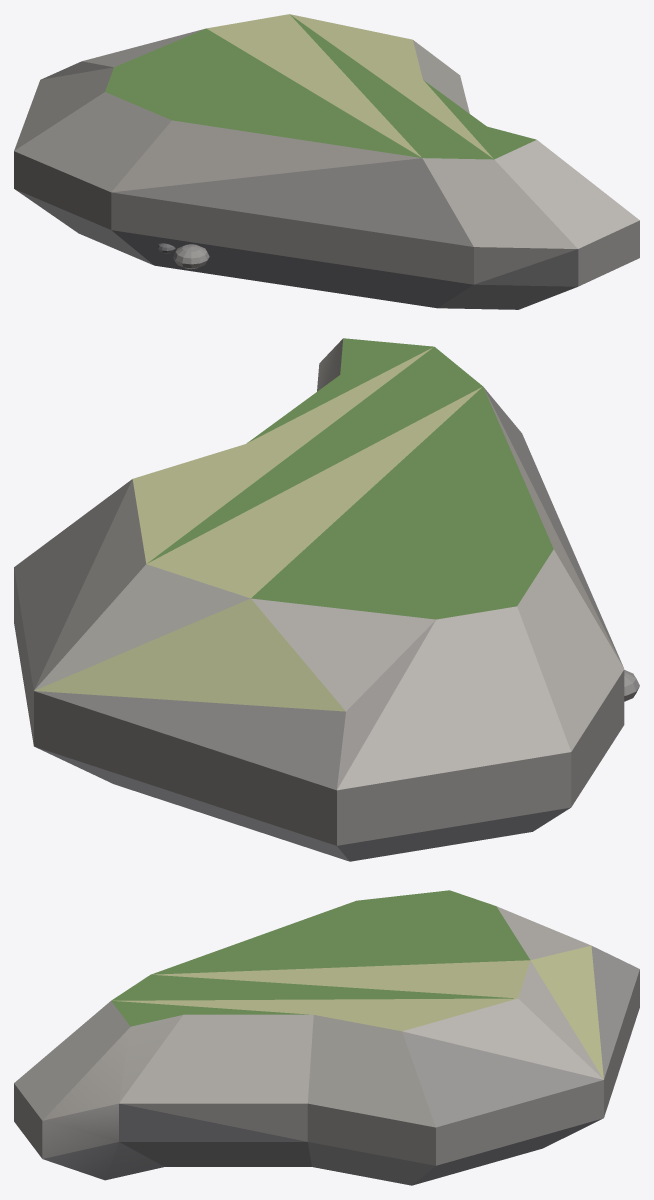
File: rock_largeA.glb
3 views of the same model, one above another, from view 1: azimuth 30°, elevation 25°; view 2: azimuth 150°, elevation 25°; view 3: azimuth 270°, elevation 25° (orthographic). The views are drawn at different scales.
Visible parts, largest first — view 1: rock_largeA; view 2: rock_largeA; view 3: rock_largeA.
Boxes of the visible parts, x1,y1,x2,y2 form: rock_largeA: (14,14,639,309); rock_largeA: (14,338,639,861); rock_largeA: (14,890,639,1185).
Bounding box in the file's own units: 0.7849 × 0.2598 × 1.02.
